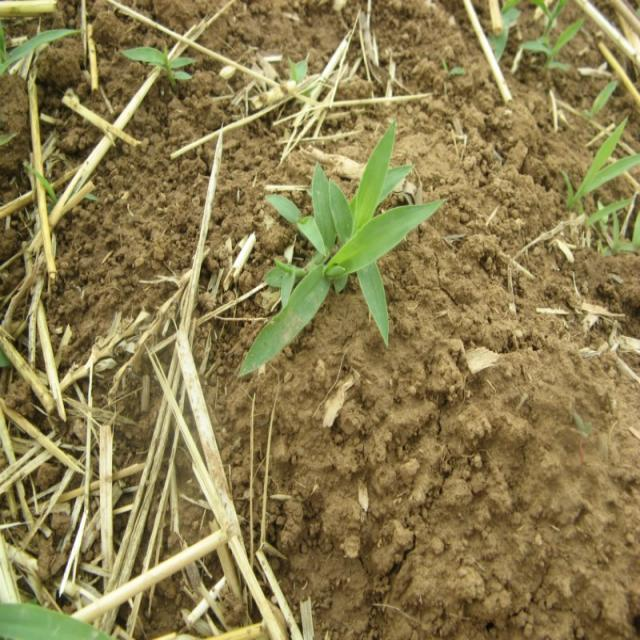bg: (237, 116, 440, 363)
